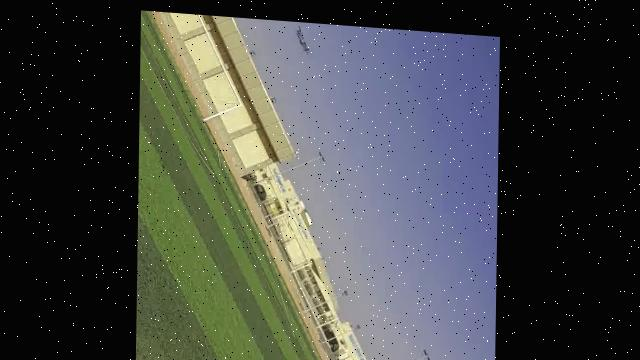drone: (288, 17, 315, 52)
